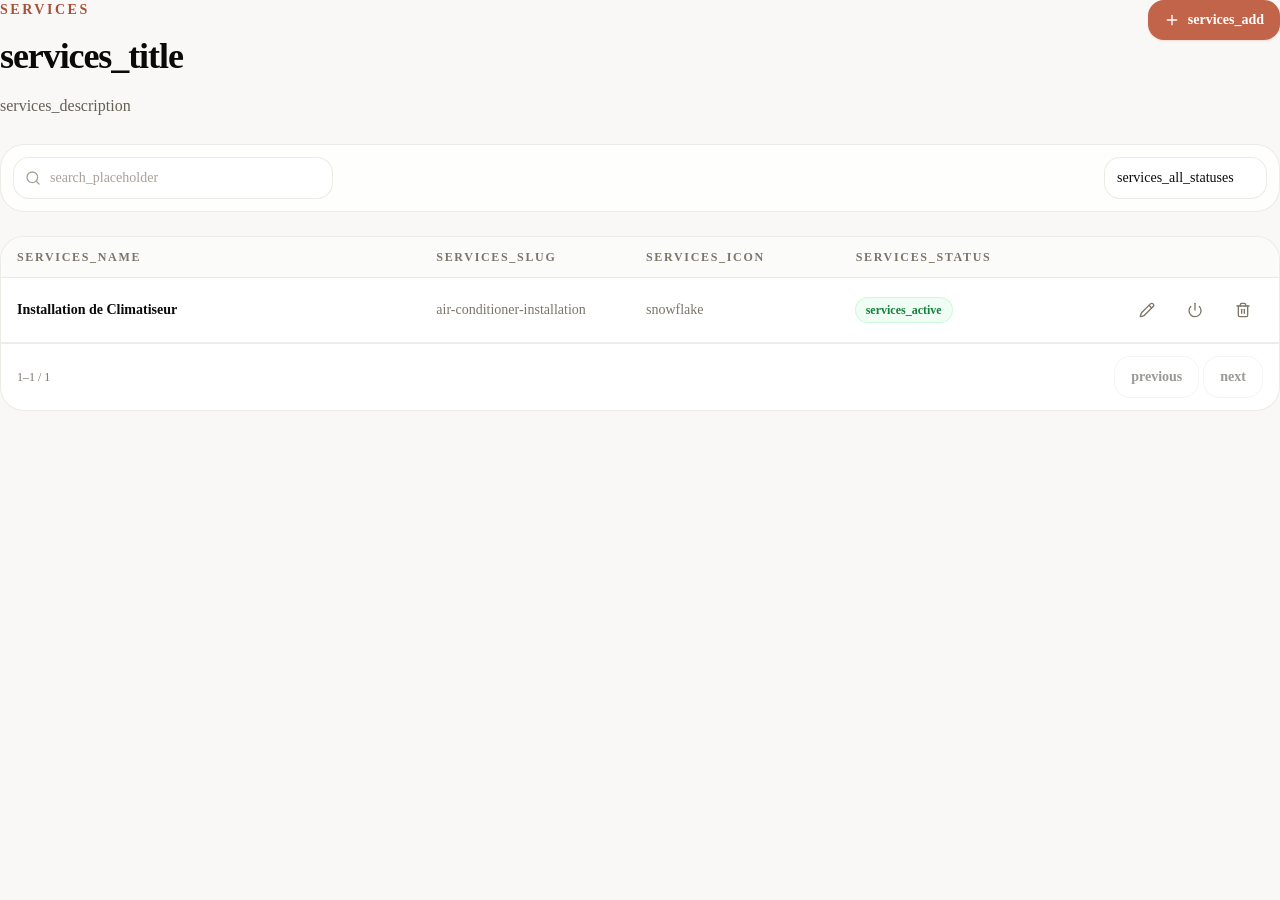
Test: AdminServices media round-trip › populates the stored media URL into the edit form when reopening a service
Step 1. Click the button named "edit" → (1147, 310), box [1127,290,1167,330]
(page scrolled)
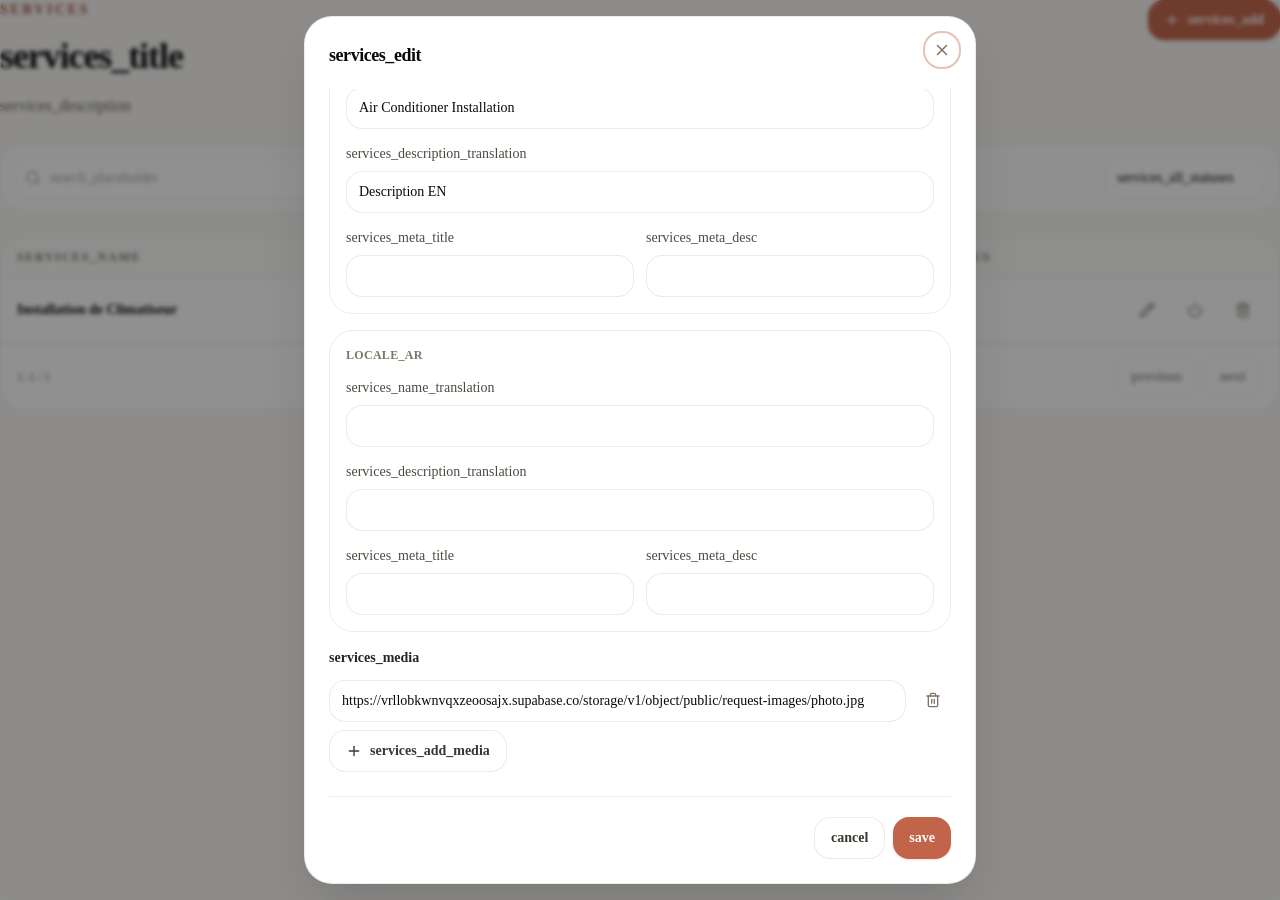
Now the button "save" is shown, box [893,817,951,859]
Now the number of fields with placeholder "https://..." is 1, box [329,680,906,722]
Now the field with placeholder "https://..." below "services_media" holds "https://vrllobkwnvqxzeoosajx.supabase.co/storage/v1/object/public/request-images/photo.jpg", box [329,680,906,722]
